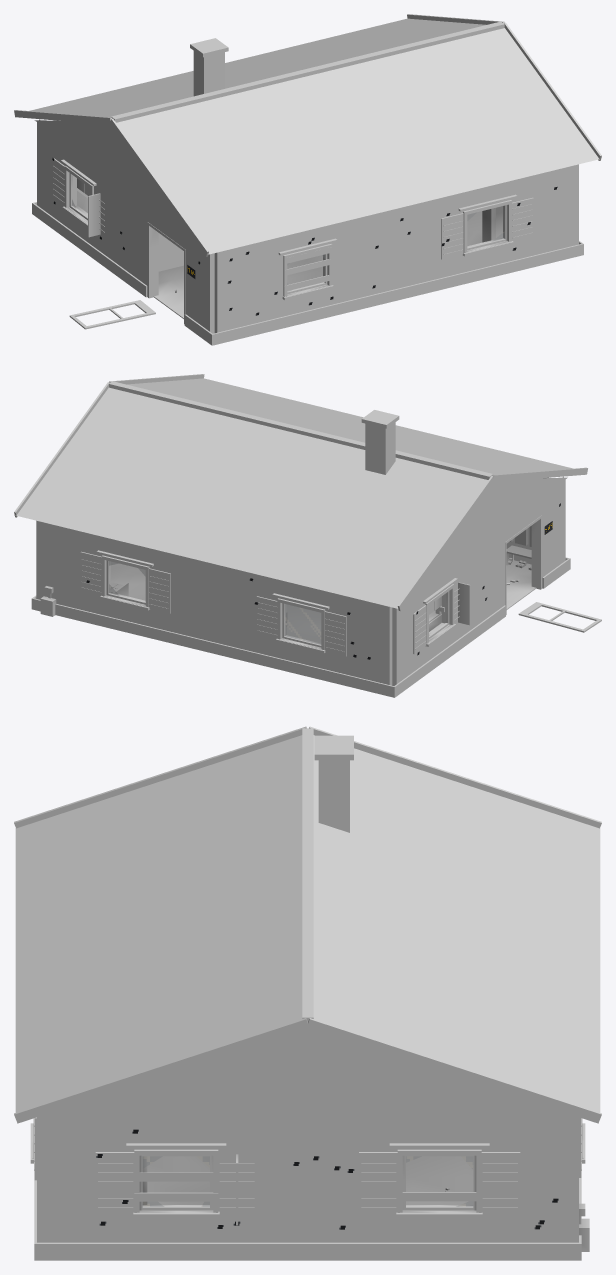
The model's file is old_house_6.glb.
The picture shows the model from 3 angles, top to bottom: view 1: azimuth 30°, elevation 25°; view 2: azimuth 150°, elevation 25°; view 3: azimuth 270°, elevation 25°; orthographic projection. The views are drawn at different scales.
Visible parts, largest first — view 1: old_house_6; view 2: old_house_6; view 3: old_house_6.
Part boxes in pixels (<box>): old_house_6: <box>14,14,601,345</box>; old_house_6: <box>14,374,601,697</box>; old_house_6: <box>14,726,601,1260</box>.
Size of the model in its own units: 15.43 by 6.53 by 11.17.
4 materials, 3 textured.
